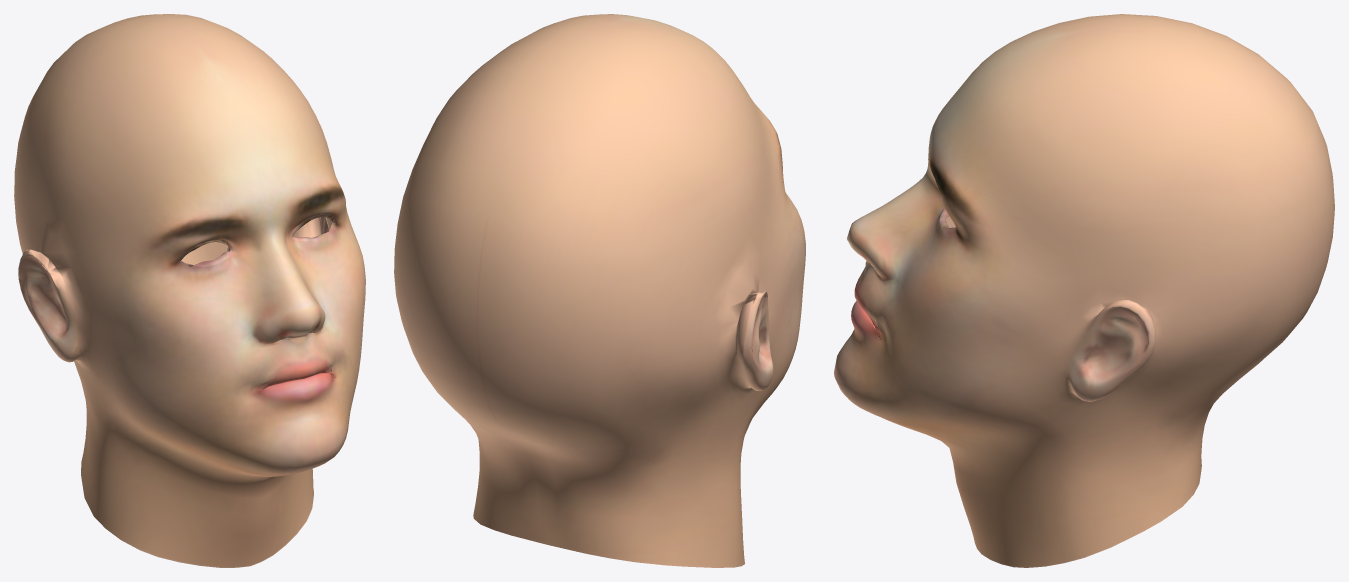
File: youngold.obj
The picture shows the model from 3 angles, left to right: view 1: azimuth 30°, elevation 25°; view 2: azimuth 150°, elevation 25°; view 3: azimuth 270°, elevation 25°; orthographic projection. The views are drawn at different scales.
Visible parts, largest first — view 1: skin_hi; view 2: skin_hi; view 3: skin_hi.
Boxes of the visible parts, bbox=[...] form: skin_hi: bbox=[14, 14, 365, 567]; skin_hi: bbox=[394, 14, 805, 567]; skin_hi: bbox=[834, 14, 1334, 567].
Size of the model in its own units: 2.38 by 3.62 by 3.18.
